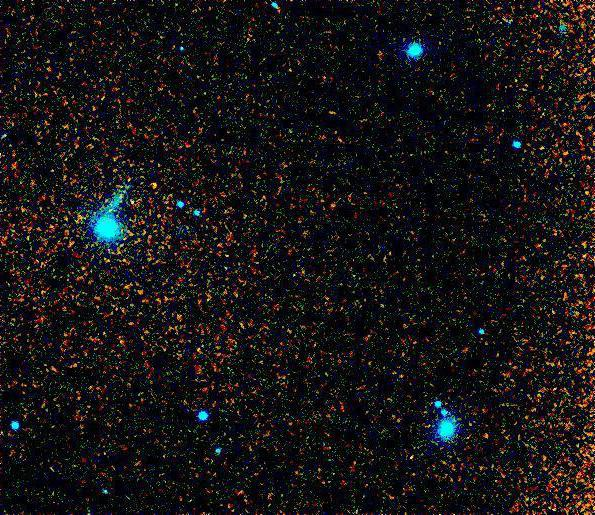star: (139, 171, 169, 201)
